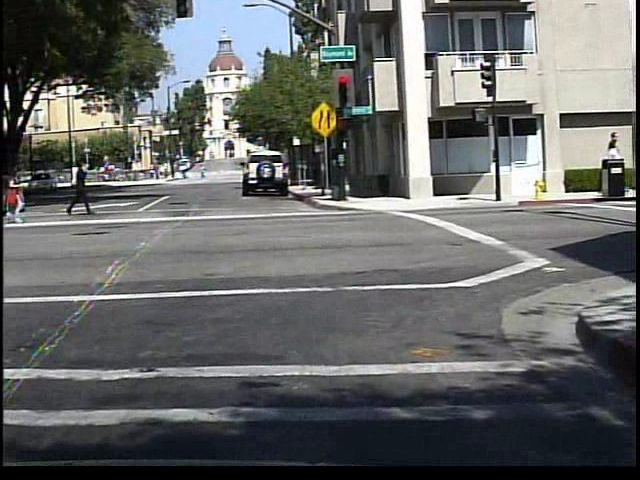person: (60, 158, 98, 222), (5, 166, 27, 228), (194, 162, 205, 182), (176, 166, 186, 182)
